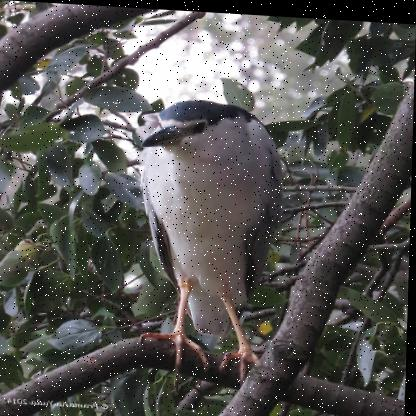Burung: (132, 97, 290, 384)
